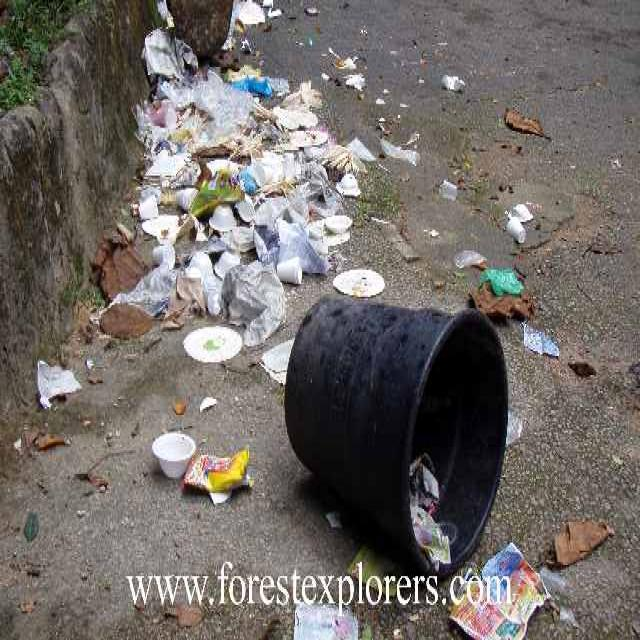bin: (264, 280, 512, 577)
plastic: (89, 16, 367, 350)
